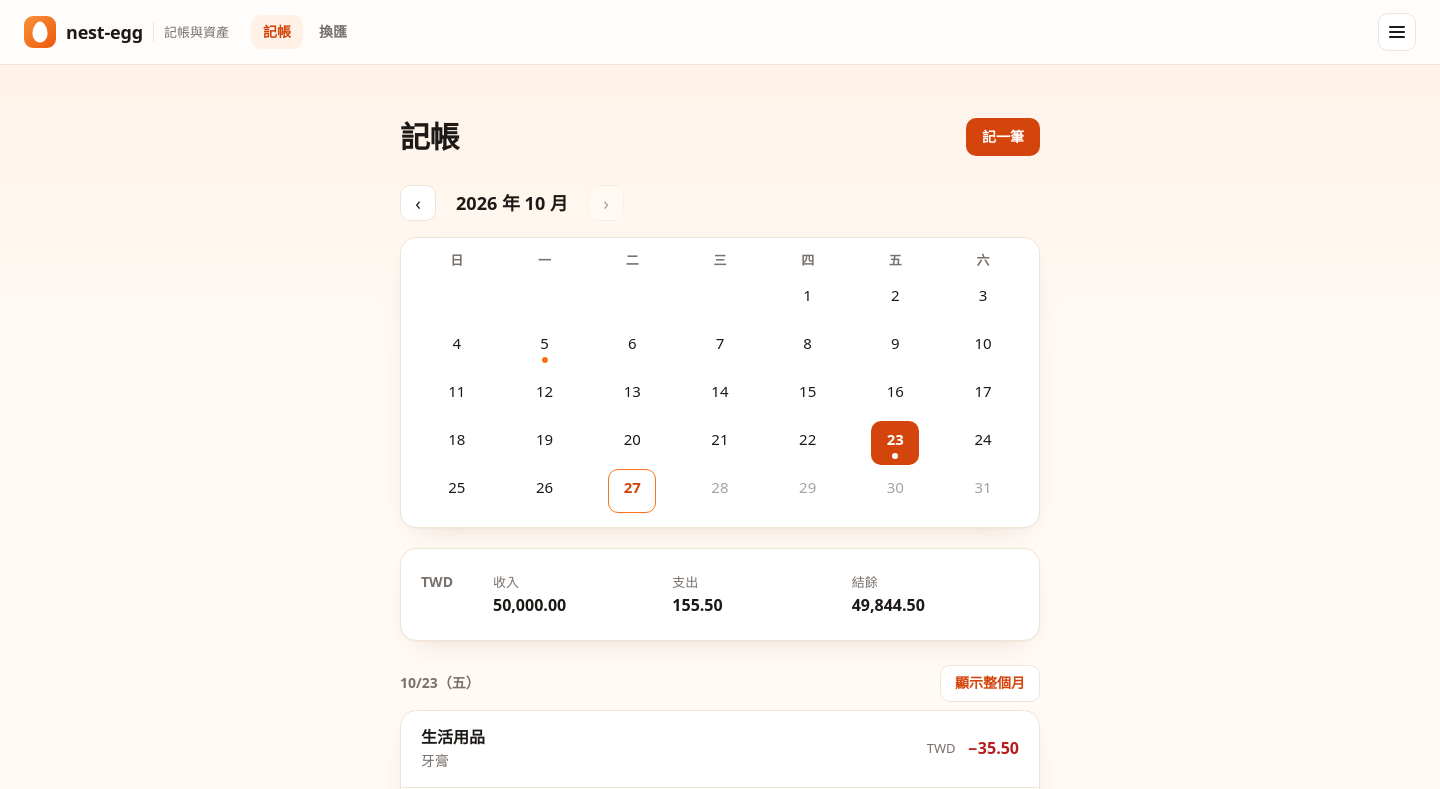
it: calendar › goes back to the whole month from a picked day
Step 1. Click the button "顯示整個月" → [990, 683], box top-left (940, 665), bottom-right (1040, 702)
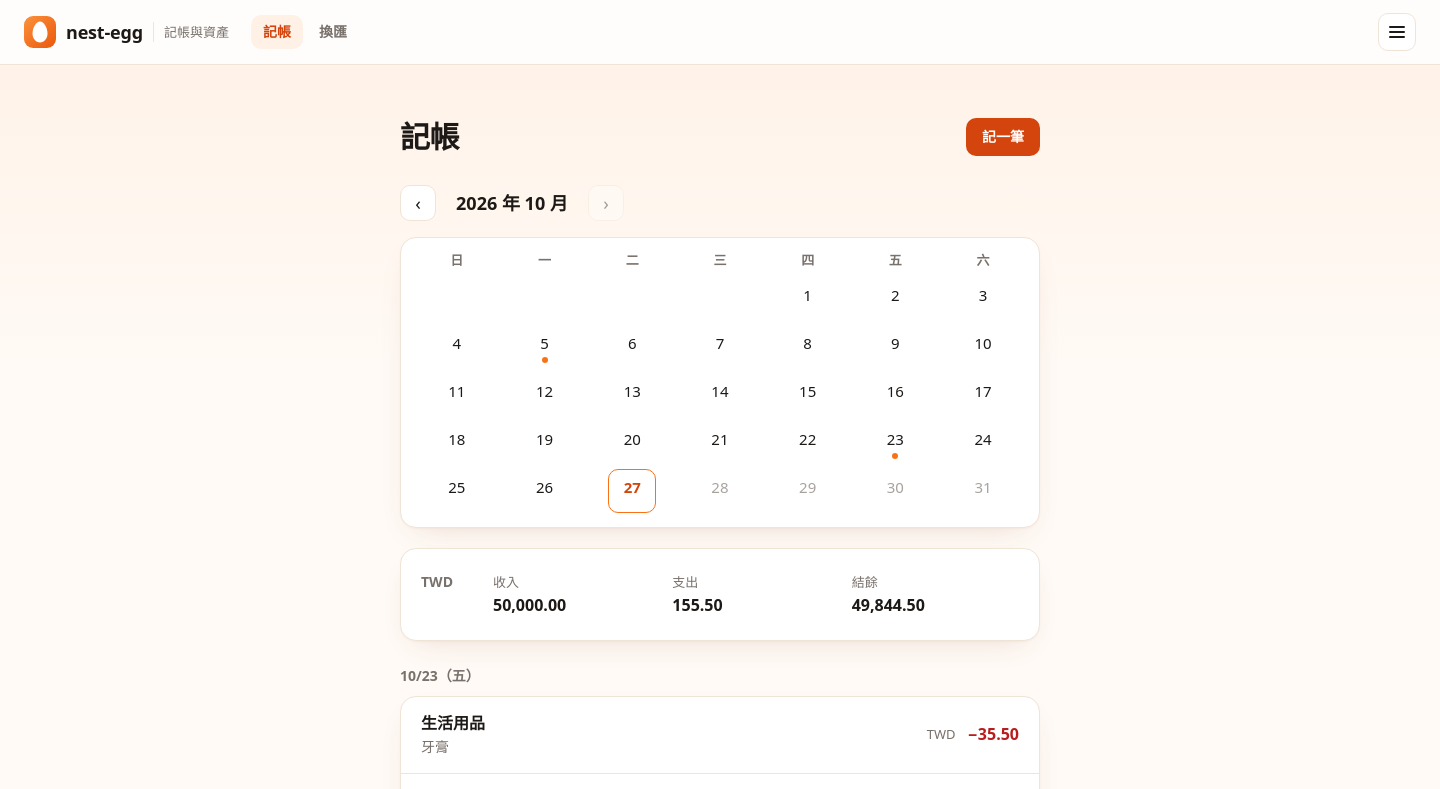
Expected: the button "顯示整個月" is gone
